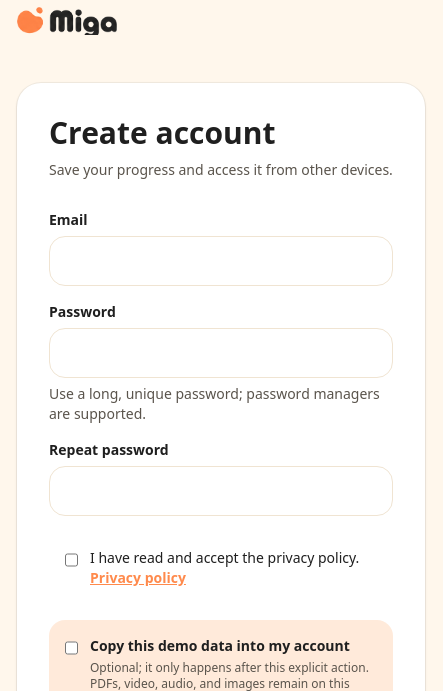
Test: demo registration › blocks demo conversion when the selected data cannot be synchronized first
In the field labelled "Email": (221, 261) x1=49 y1=236 x2=393 y2=286, type "person@example.com"
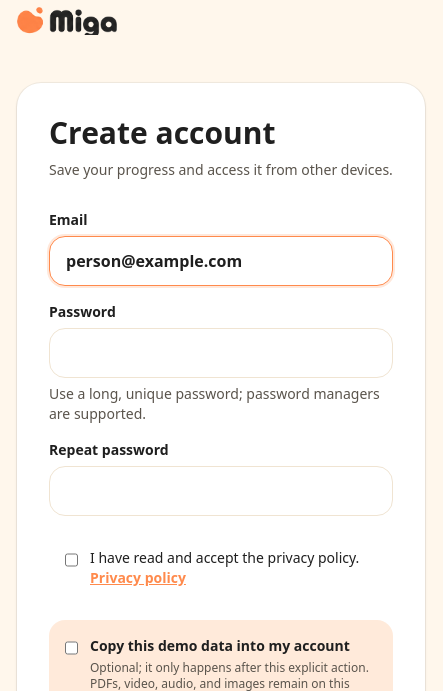
In the password field labelled "Password": (221, 353) x1=49 y1=328 x2=393 y2=378, type "a-long-unique-password"
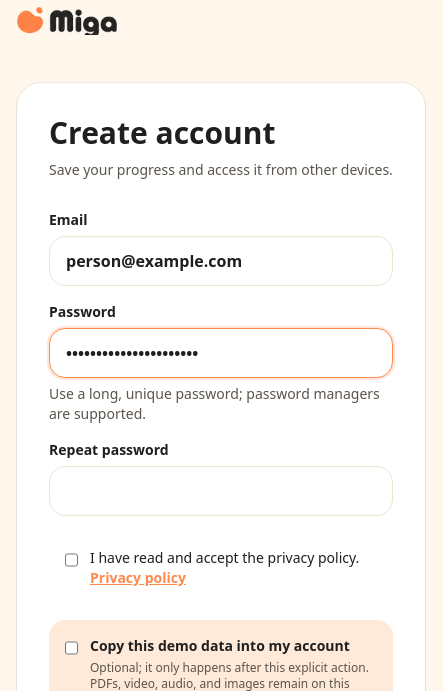
In the password field labelled "Repeat password": (221, 491) x1=49 y1=466 x2=393 y2=516, type "a-long-unique-password"
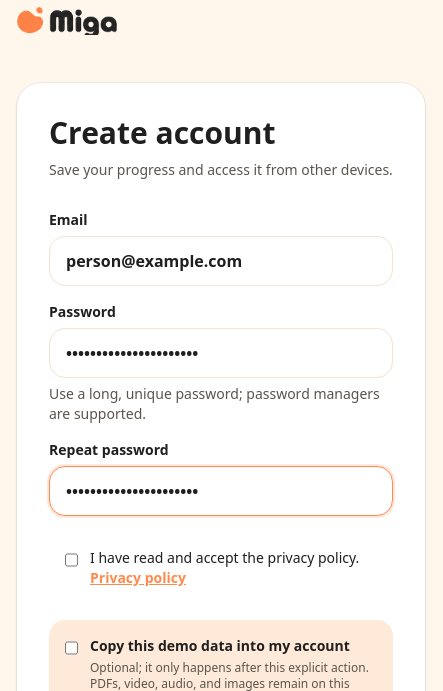
Click the checkbox labelled "I have read and accept the privacy policy. Privacy policy": (72, 560) x1=65 y1=552 x2=78 y2=568
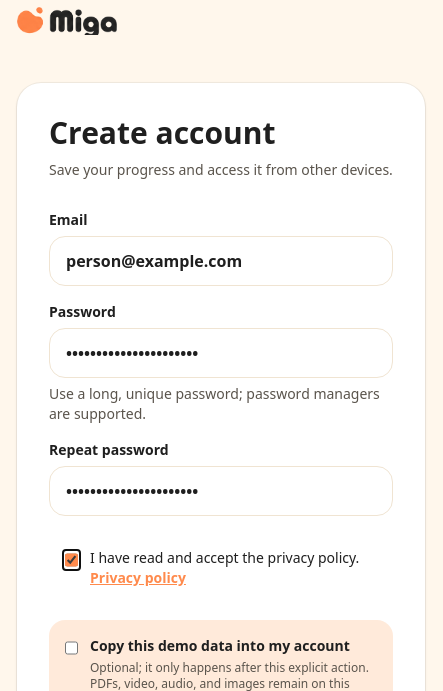
Click the checkbox labelled "Copy this demo data": (72, 648) x1=65 y1=640 x2=78 y2=656
(page scrolled)
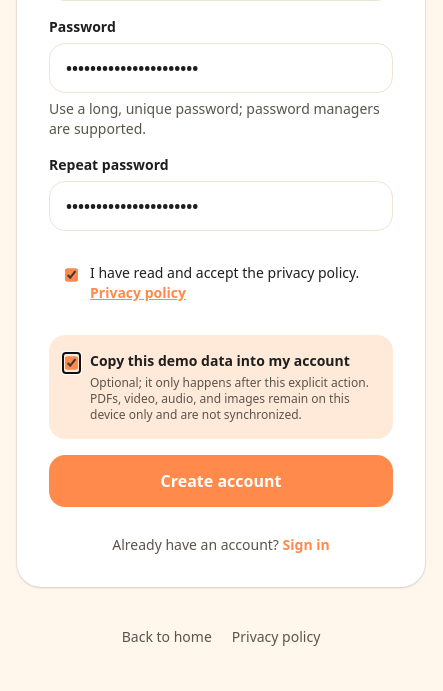
Click the button "Create account": (221, 481) x1=49 y1=455 x2=393 y2=507
(page scrolled)
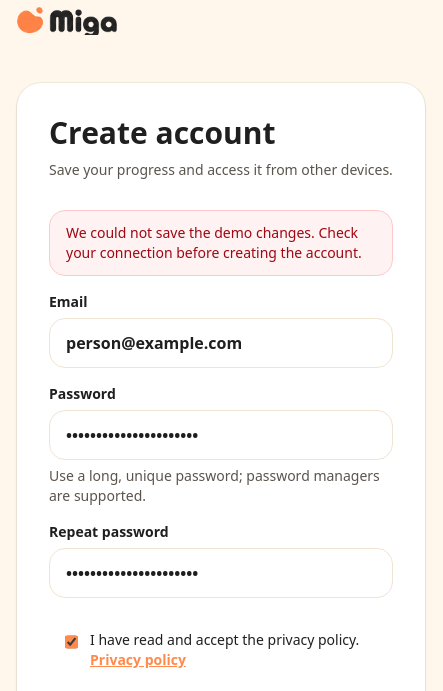
Expected: the message shows "We could not save the demo changes", x1=66 y1=223 x2=362 y2=262
